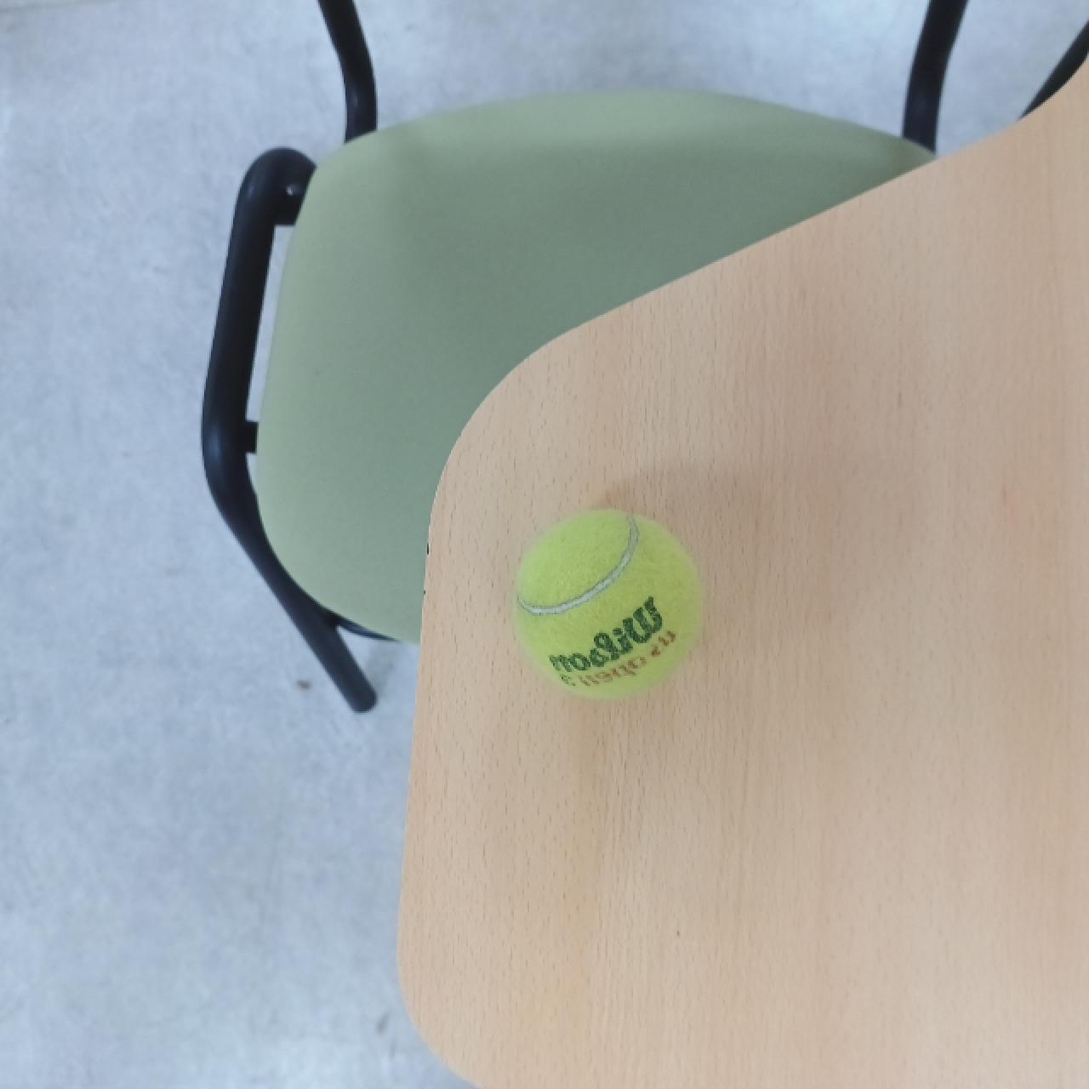tennis-ball: (514, 505, 706, 699)
